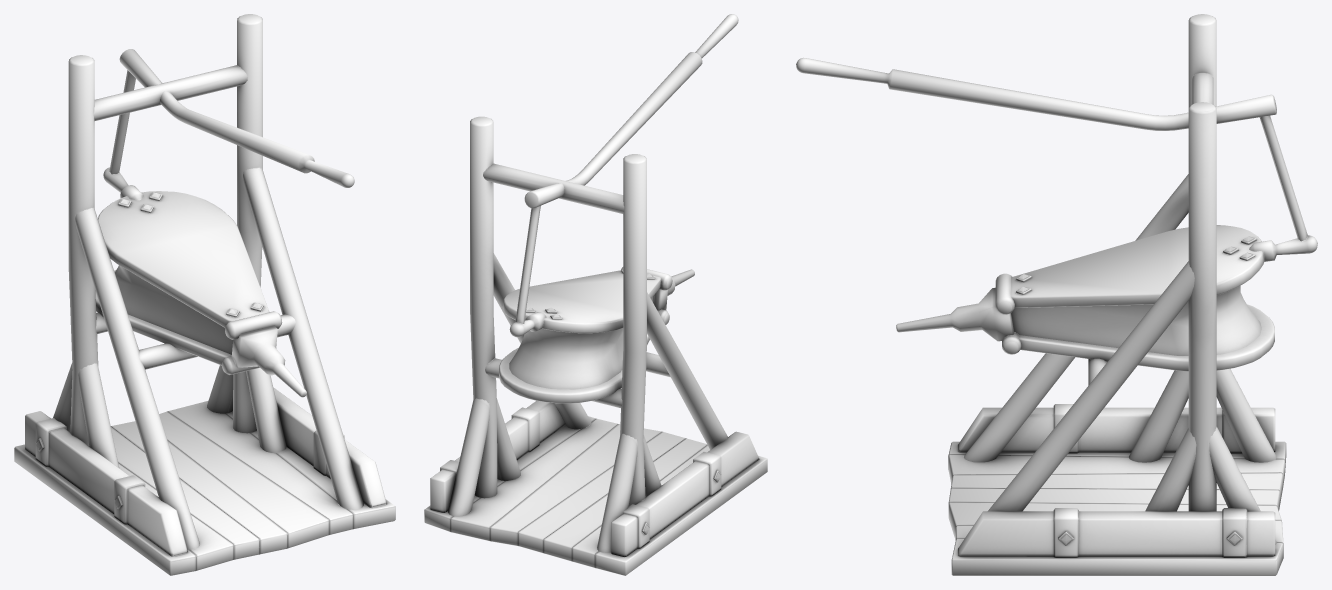
The model's file is Big_Bellows.FBX.
3 views of the same model, side by side, from view 1: azimuth 30°, elevation 25°; view 2: azimuth 150°, elevation 25°; view 3: azimuth 270°, elevation 25° (orthographic). The views are drawn at different scales.
Parts seen in each view (by area): view 1: Big_Bellows, BB_Top, BB_Handle, Big_Skin, BB_Joint; view 2: Big_Bellows, BB_Handle, BB_Top, Big_Skin, BB_Joint; view 3: Big_Bellows, BB_Top, BB_Handle, Big_Skin, BB_Joint.
Part boxes in pixels (x1,y1,x2,y2): Big_Bellows: (14, 14, 395, 575); BB_Top: (98, 167, 282, 339); BB_Handle: (93, 49, 354, 187); Big_Skin: (115, 265, 232, 354); BB_Joint: (109, 70, 135, 174); Big_Bellows: (424, 116, 767, 575); BB_Handle: (483, 14, 738, 213); BB_Top: (502, 267, 672, 337); Big_Skin: (509, 295, 654, 389); BB_Joint: (515, 205, 540, 323); Big_Bellows: (896, 14, 1286, 575); BB_Top: (995, 225, 1317, 314); BB_Handle: (796, 57, 1276, 130); Big_Skin: (1011, 285, 1261, 355); BB_Joint: (1259, 115, 1307, 241).
Size of the model in its own units: 113 by 200 by 208.
